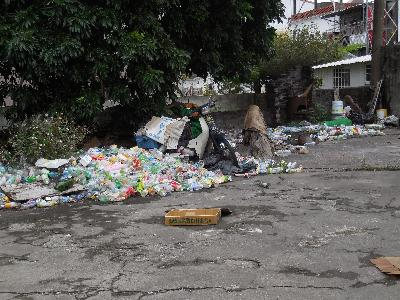box: (163, 205, 222, 227)
bucket: (331, 99, 344, 115), (375, 108, 387, 121)
